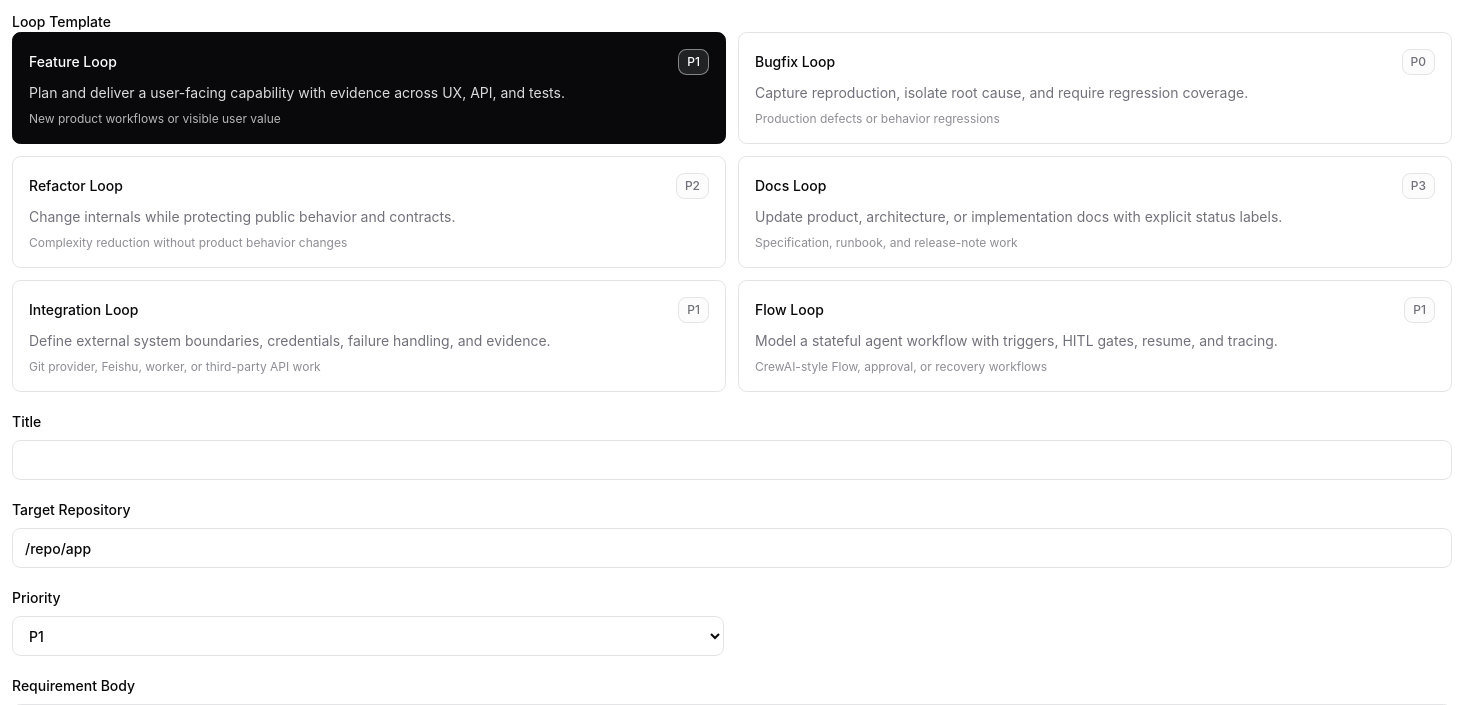
Test: NewLoopIssueForm › prefills CrewAI-style templates for complete issue intake
Expected: the text "New product workflows or visible user value" is shown, [29,111,281,126]
Click the button "Bugfix Loop" at (1095, 88), box [738,32,1452,144]
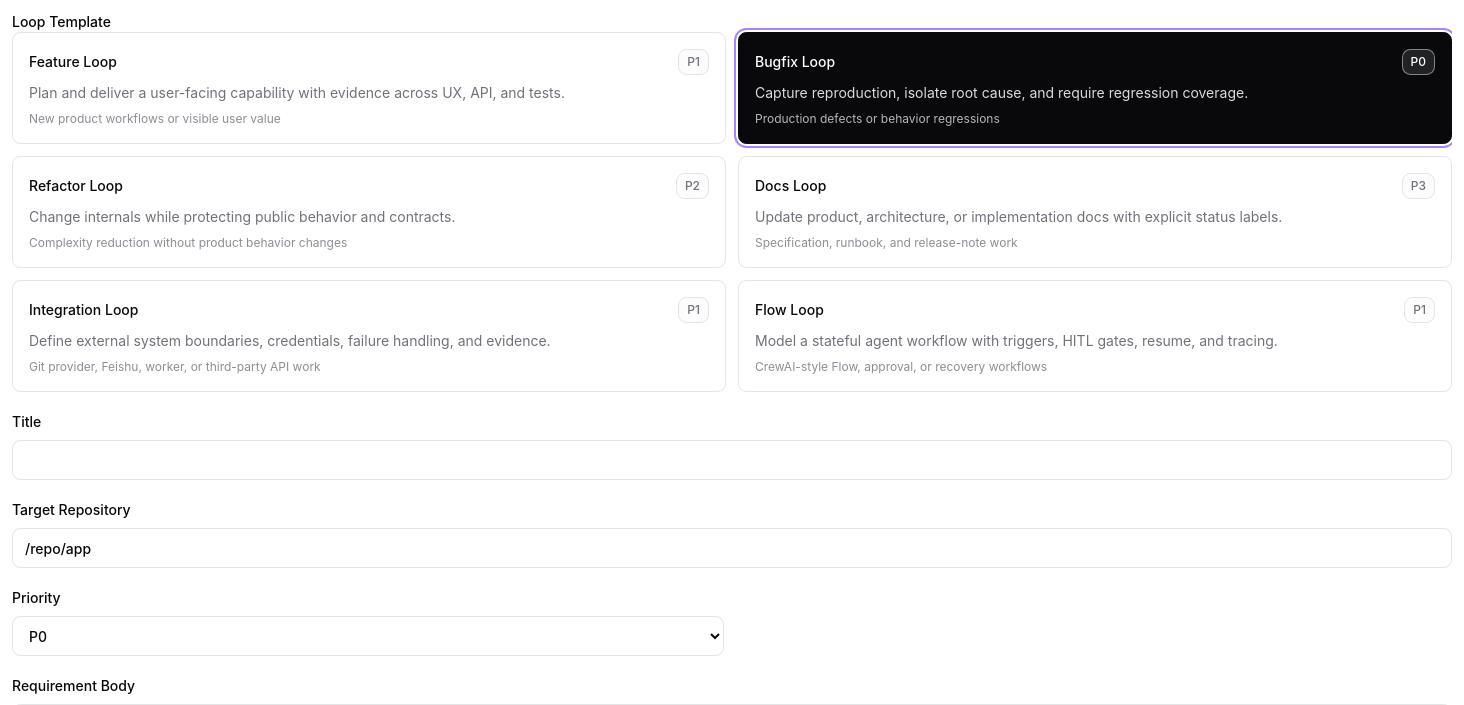
Result: the dropdown labelled "Priority" shows "P0" at [12,616,724,656]
Click the button "Flow Loop" at (1095, 336), box [738,280,1452,392]
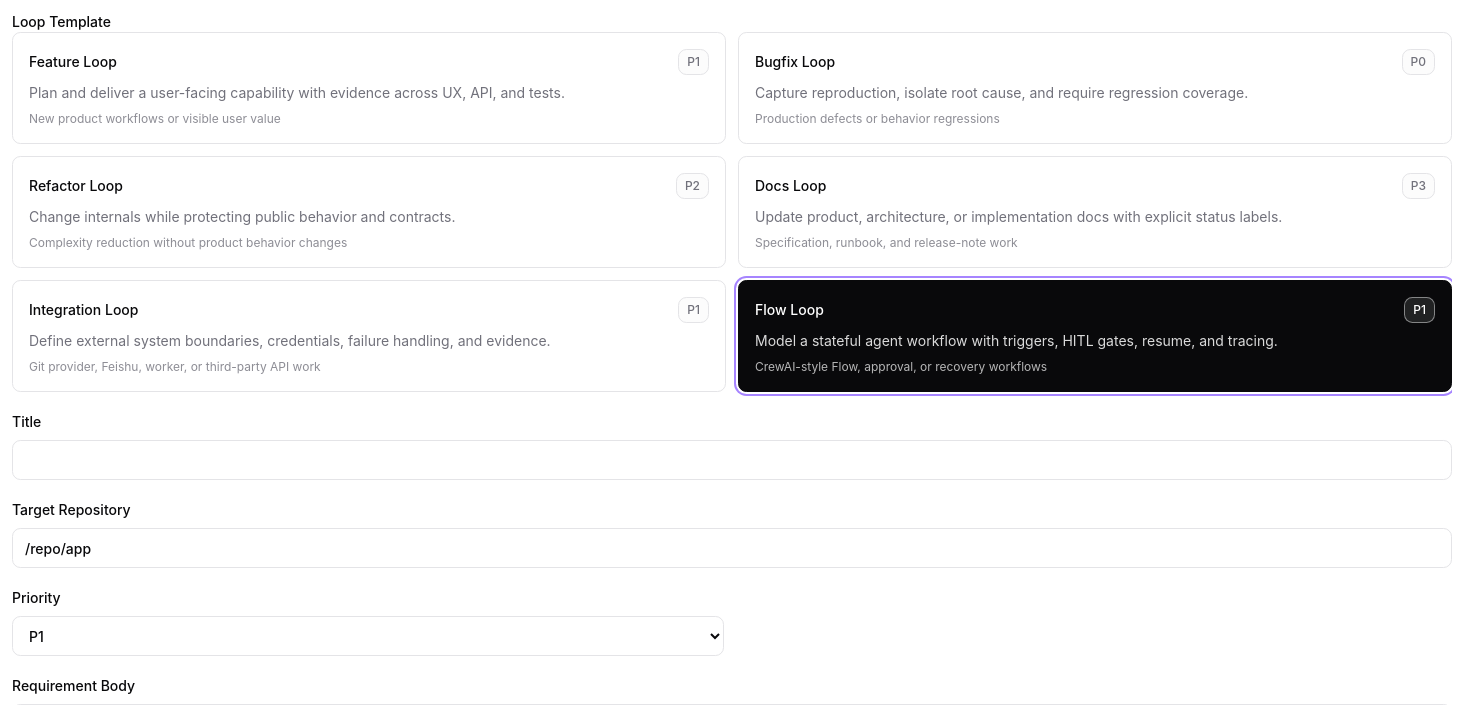
Expected: the text "CrewAI-style Flow, approval, or recovery workflows" is shown, [755,359,1047,374]
Result: the dropdown labelled "Priority" shows "P1" at [12,616,724,656]
